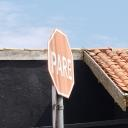Pare: (44, 28, 78, 99)
